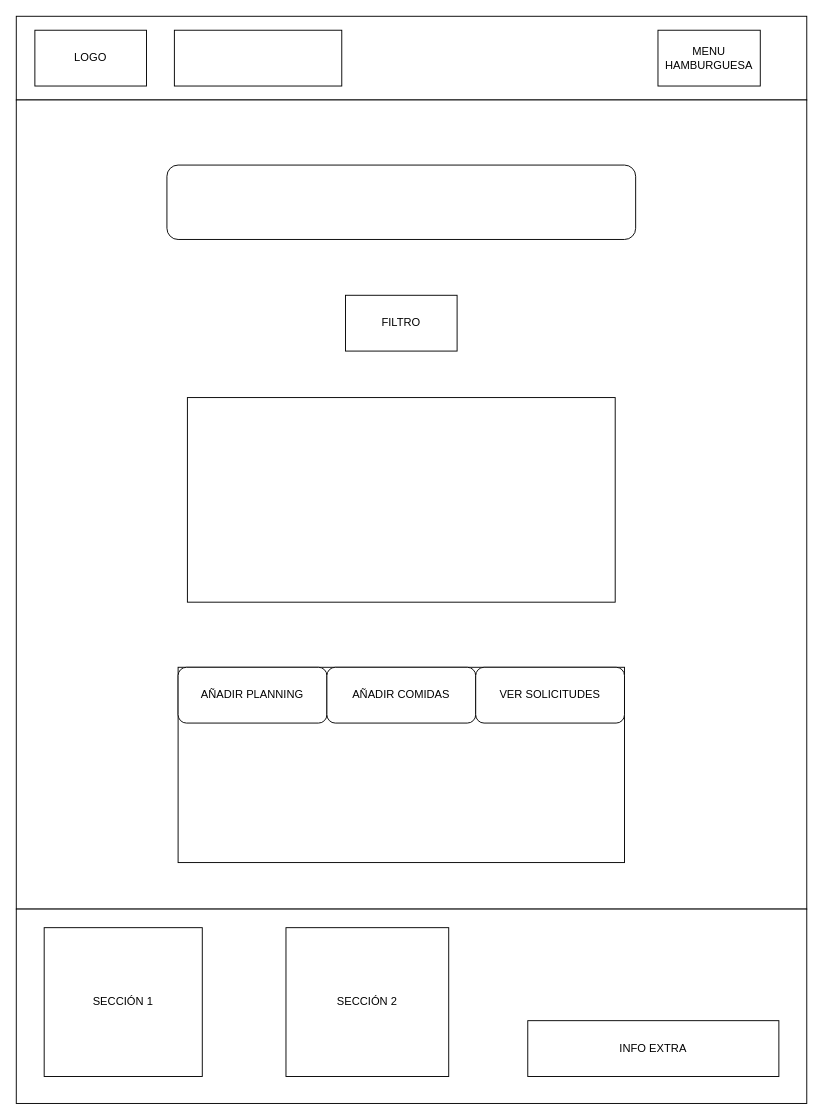
Image size: 823x1120. Some labels were removed from this diagram. The shapes that lost their labels are listed below. From the top down, each one's box as (x1, y1, x2, y2) in pixels, then its label:
(173, 29, 342, 86): NOMBRE DE EMPRESA
(166, 164, 636, 239): TÍTULO NUTRICIÓN
(186, 397, 615, 602): PLANNINGS
(177, 666, 624, 863): TAB DINÁMICOS
